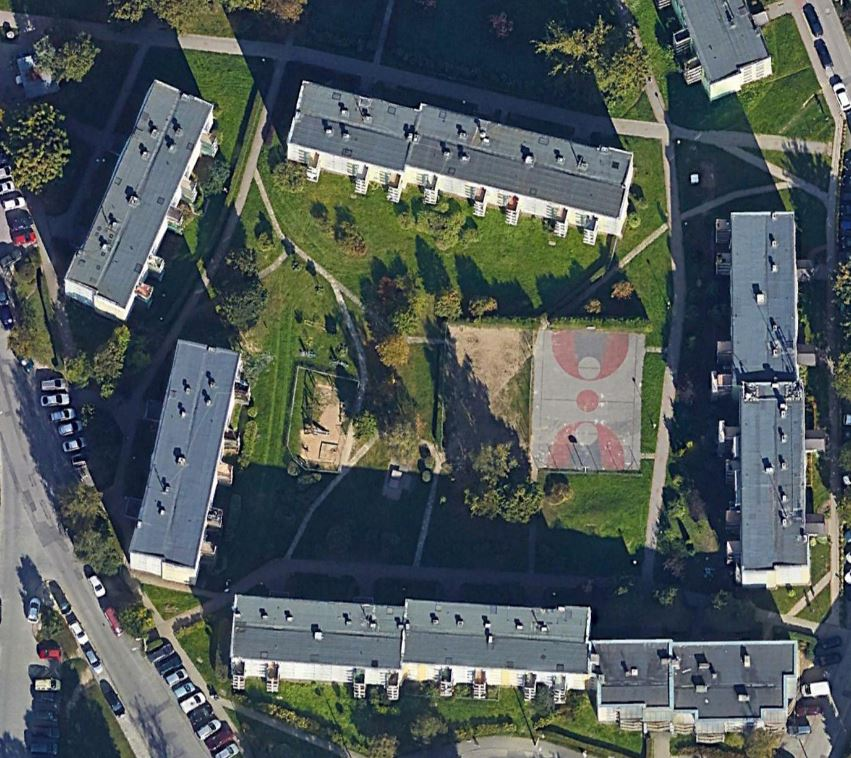block of flats: (215, 573, 813, 749), (279, 66, 640, 257), (703, 199, 821, 591), (55, 72, 228, 328), (124, 329, 257, 596), (655, 1, 785, 111)
